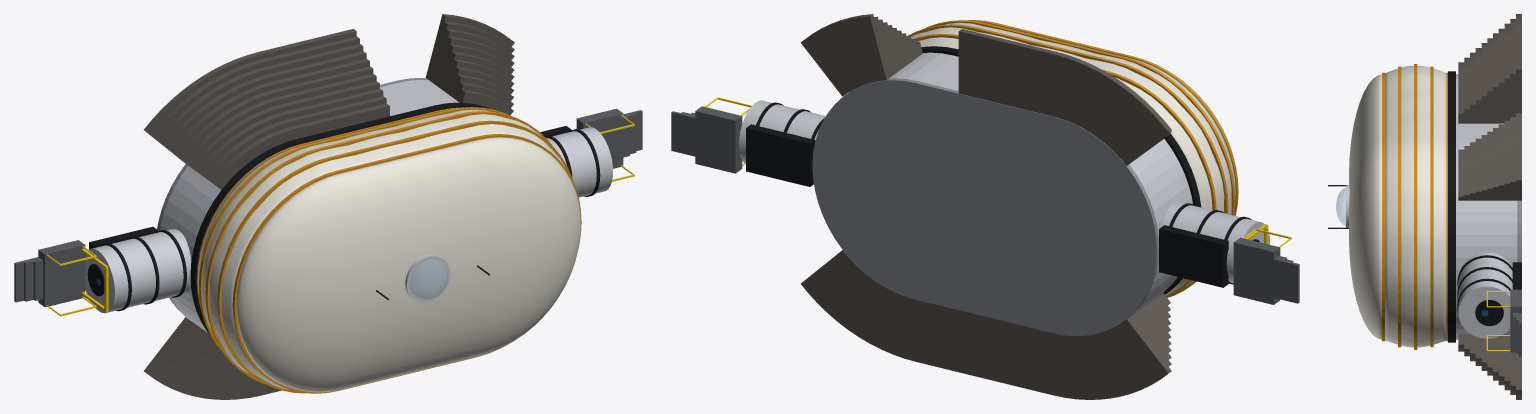
File: LunarHabitat_BaseOnly_Color_1to50.obj
The picture shows the model from 3 angles, left to right: view 1: azimuth 30°, elevation 25°; view 2: azimuth 150°, elevation 25°; view 3: azimuth 270°, elevation 25°; orthographic projection. The views are drawn at different scales.
Visible parts, largest first — view 1: L2_Inflatable_Roof, L2_Inflatable_Softgoods_Shell, Airlock_Crew_EVA_Module, L1_Rigid_Metal_Shell, Interface_Ring_Beam, Regolith_Print_Layer_1_10, Airlock_Equipment_Module, L2_Restraint_Strap_75, Airlock_Crew_EVA_Porch, L2_Restraint_Strap_100, L2_Restraint_Strap_50, Regolith_Print_Layer_1_00 (+29 smaller); view 2: L1_Floor_Slab, Regolith_Print_Layer_2_00, Regolith_Print_Layer_1_00, L2_Inflatable_Softgoods_Shell, L1_Rigid_Metal_Shell, Regolith_Print_Layer_0_00, Airlock_Crew_EVA_Cradle, Airlock_Equipment_Cradle, Airlock_Equipment_Porch, Airlock_Crew_EVA_Porch, Airlock_Crew_EVA_Module, Airlock_Equipment_Module (+5 smaller); view 3: L2_Inflatable_Softgoods_Shell, L2_Inflatable_Roof, L1_Rigid_Metal_Shell, Airlock_Equipment_Module, Interface_Ring_Beam, L2_Restraint_Strap_50, L2_Restraint_Strap_25, L2_Restraint_Strap_75, L2_Restraint_Strap_100, Regolith_Print_Layer_1_02, Regolith_Print_Layer_1_03, Regolith_Print_Layer_1_00 (+36 smaller).
Part boxes in pixels (left/top/right/bottom): L2_Inflatable_Roof: left=236, top=137, right=580, bottom=392; L2_Inflatable_Softgoods_Shell: left=198, top=109, right=565, bottom=389; Airlock_Crew_EVA_Module: left=85, top=229, right=191, bottom=313; L1_Rigid_Metal_Shell: left=160, top=79, right=458, bottom=332; Interface_Ring_Beam: left=190, top=102, right=490, bottom=335; Regolith_Print_Layer_1_10: left=211, top=103, right=389, bottom=189; Airlock_Equipment_Module: left=546, top=127, right=612, bottom=197; L2_Restraint_Strap_75: left=217, top=120, right=573, bottom=393; Airlock_Crew_EVA_Porch: left=38, top=240, right=85, bottom=307; L2_Restraint_Strap_100: left=232, top=134, right=581, bottom=393; L2_Restraint_Strap_50: left=205, top=111, right=552, bottom=384; Regolith_Print_Layer_1_00: left=144, top=29, right=356, bottom=163; L1_Floor_Slab: left=812, top=78, right=1158, bottom=335; Regolith_Print_Layer_2_00: left=801, top=250, right=1171, bottom=399; Regolith_Print_Layer_1_00: left=958, top=29, right=1171, bottom=165; L2_Inflatable_Softgoods_Shell: left=911, top=22, right=1235, bottom=295; L1_Rigid_Metal_Shell: left=850, top=52, right=1192, bottom=315; Regolith_Print_Layer_0_00: left=800, top=14, right=889, bottom=96; Airlock_Crew_EVA_Cradle: left=1159, top=225, right=1228, bottom=287; Airlock_Equipment_Cradle: left=746, top=124, right=815, bottom=186; Airlock_Equipment_Porch: left=695, top=106, right=742, bottom=173; Airlock_Crew_EVA_Porch: left=1233, top=237, right=1280, bottom=304; Airlock_Crew_EVA_Module: left=1162, top=202, right=1269, bottom=283; Airlock_Equipment_Module: left=739, top=100, right=825, bottom=163; L2_Inflatable_Softgoods_Shell: left=1385, top=65, right=1446, bottom=347; L2_Inflatable_Roof: left=1349, top=74, right=1381, bottom=339; L1_Rigid_Metal_Shell: left=1456, top=74, right=1517, bottom=339; Airlock_Equipment_Module: left=1458, top=252, right=1512, bottom=338; Interface_Ring_Beam: left=1448, top=71, right=1455, bottom=342; L2_Restraint_Strap_50: left=1414, top=64, right=1417, bottom=349; L2_Restraint_Strap_25: left=1430, top=66, right=1433, bottom=347; L2_Restraint_Strap_75: left=1398, top=66, right=1401, bottom=347; L2_Restraint_Strap_100: left=1382, top=72, right=1384, bottom=341; Regolith_Print_Layer_1_02: left=1504, top=23, right=1510, bottom=120; Regolith_Print_Layer_1_03: left=1498, top=28, right=1504, bottom=123; Regolith_Print_Layer_1_00: left=1516, top=14, right=1521, bottom=113.
Size of the model in its own units: 546 by 284 by 168.
